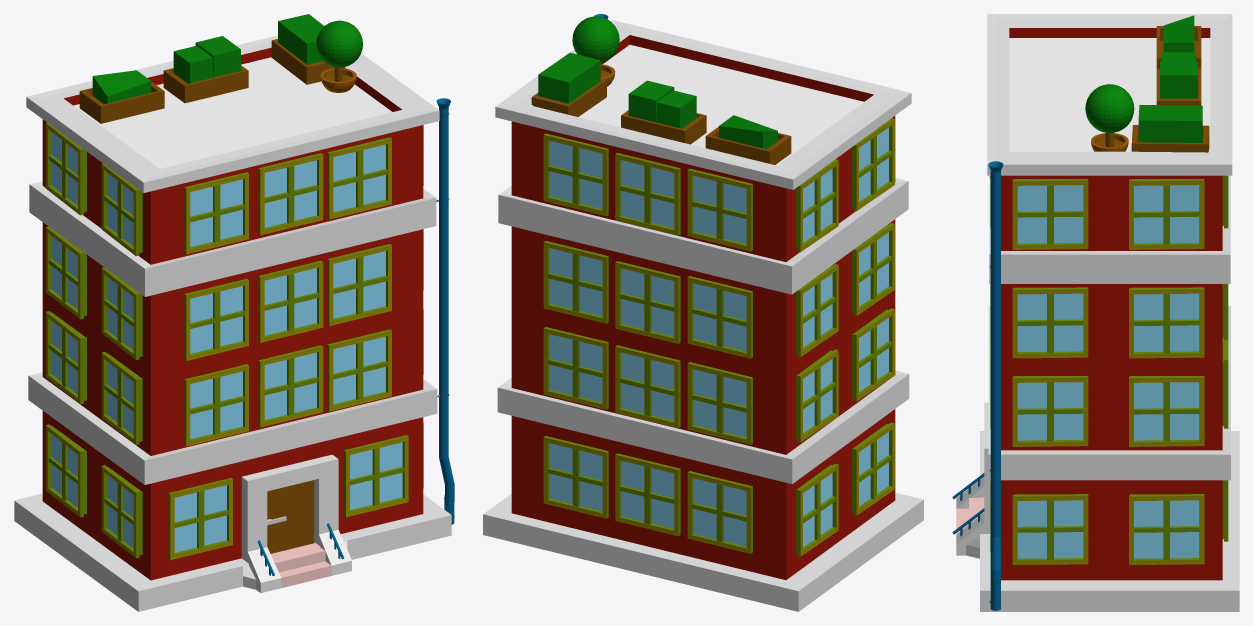
3 views of the same model, side by side, from view 1: azimuth 30°, elevation 25°; view 2: azimuth 150°, elevation 25°; view 3: azimuth 270°, elevation 25° (orthographic). The views are drawn at different scales.
Parts seen in each view (by area): view 1: Cube, Cube.042, Cube.041, Cube.043, Cube.009, Cube.004, Cube.006, Cube.011, Cube.005, Cube.008, Cube.007, Cube.010 (+14 smaller); view 2: Cube, Cube.030, Cube.035, Cube.037, Cube.039, Cube.031, Cube.033, Cube.040, Cube.029, Cube.032, Cube.034, Cube.038 (+13 smaller); view 3: Cube, Cube.024, Cube.028, Cube.026, Cube.022, Cube.023, Cube.027, Cube.021, Cube.025, Cylinder, Cube.003, Sphere (+4 smaller).
Part boxes in pixels (x1,y1,x2,y2): Cube: (14,35,451,611); Cube.042: (258,153,323,235); Cube.041: (258,260,323,342); Cube.043: (258,345,323,427); Cube.009: (327,329,391,411); Cube.004: (184,172,248,254); Cube.006: (184,278,248,360); Cube.011: (344,435,408,517); Cube.005: (327,137,391,219); Cube.008: (184,364,248,446); Cube.007: (327,244,391,325); Cube.010: (168,478,232,559); Cube: (483,20,923,611); Cube.030: (543,133,608,216); Cube.035: (687,471,752,553); Cube.037: (615,453,680,536); Cube.039: (615,261,680,343); Cube.031: (687,276,752,358); Cube.033: (687,362,752,444); Cube.040: (615,153,680,235); Cube.029: (687,168,752,251); Cube.032: (543,241,608,323); Cube.034: (543,327,608,409); Cube.038: (615,345,680,427); Cube: (956,14,1239,611); Cube.024: (1012,287,1088,358); Cube.028: (1012,494,1088,564); Cube.026: (1012,375,1088,446); Cube.022: (1012,178,1088,249); Cube.023: (1129,287,1204,358); Cube.027: (1129,494,1204,564); Cube.021: (1129,178,1204,249); Cube.025: (1129,376,1204,446); Cylinder: (988,161,1003,610); Cube.003: (1131,105,1209,152); Sphere: (1085,84,1134,151).
Size of the model in its own units: 6.63 by 9.4 by 4.89.
Materials: 1 (1 with a texture image).
